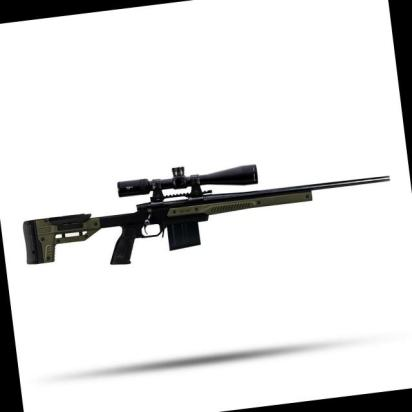Gun: (23, 166, 392, 274)
